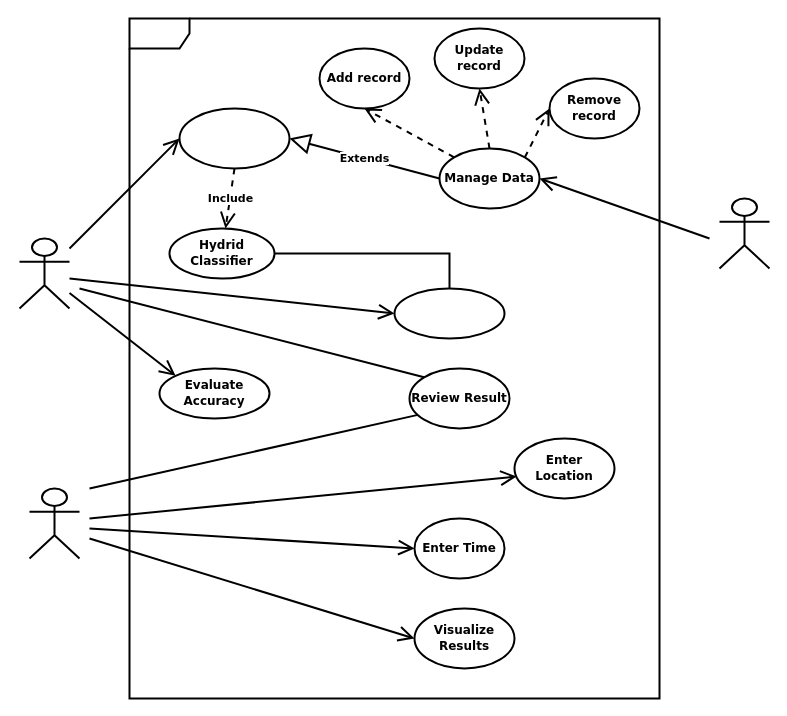
The diagram is 787 pixels wide and 716 high, and some of its shapes have lost their labels. The shapes that lost their labels are listed below. From the top down, each one's box as (x1, y1, x2, y2) in pixels, then its label:
(178, 107, 290, 169): Preprocessed Data
(718, 197, 770, 269): ADMIN
(18, 237, 70, 309): SYSTEM
(393, 287, 505, 339): Evaluate Model
(28, 487, 80, 559): USER
